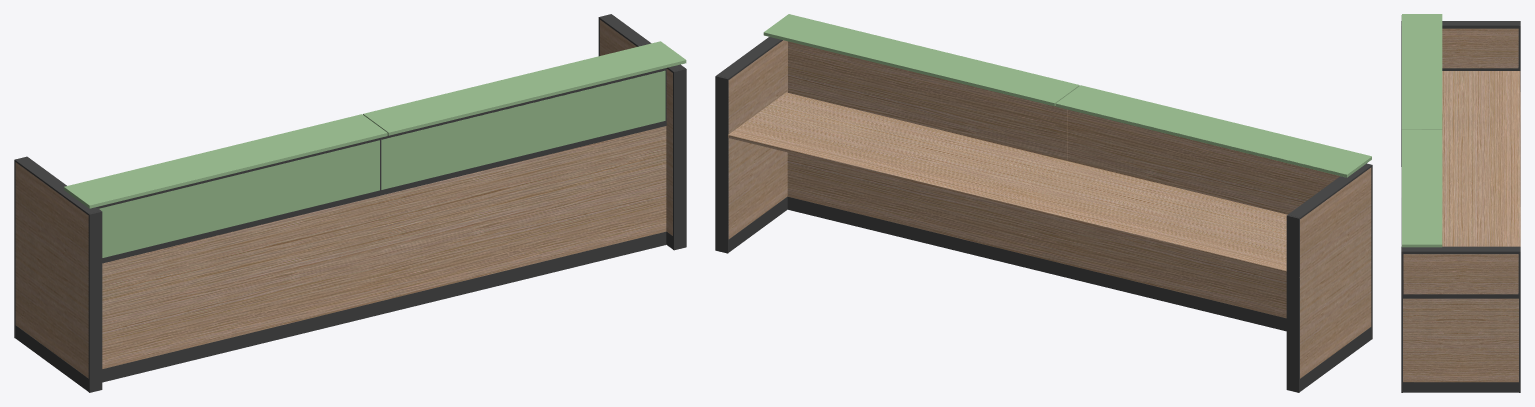
Rendered from Counter.fbx.
The picture shows the model from 3 angles, left to right: view 1: azimuth 30°, elevation 25°; view 2: azimuth 150°, elevation 25°; view 3: azimuth 270°, elevation 25°; orthographic projection. The views are drawn at different scales.
Parts seen in each view (by area): view 1: Counter; view 2: Counter; view 3: Counter.
Part boxes in pixels (x1,y1,x2,y2): Counter: (14,14,686,392); Counter: (715,14,1372,392); Counter: (1401,14,1520,392).
Bounding box in the file's own units: 376 × 113 × 82.
3 materials, 1 textured.
